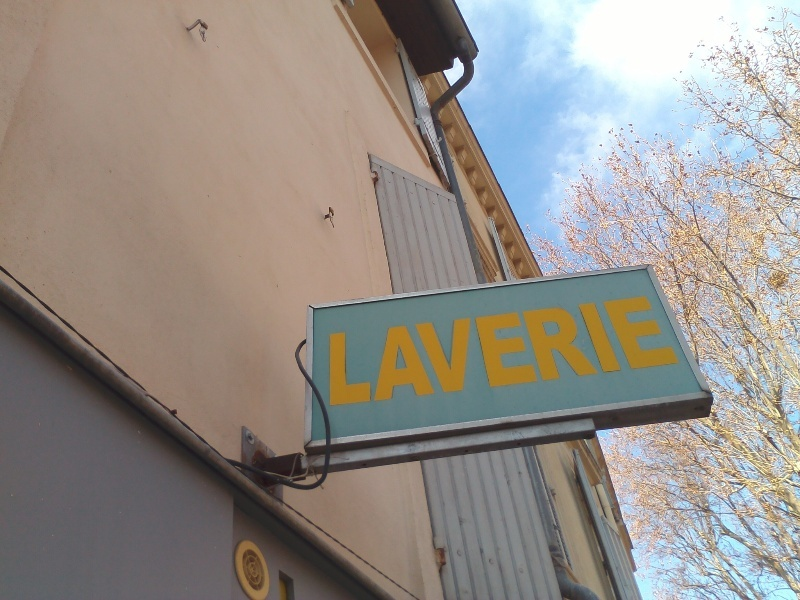text: (337, 293, 352, 409), (353, 293, 368, 409), (369, 293, 384, 409), (385, 293, 400, 409), (401, 293, 416, 409), (417, 293, 432, 409), (433, 293, 448, 409), (449, 293, 464, 409), (465, 293, 480, 409), (481, 293, 496, 409), (497, 293, 512, 409), (513, 293, 528, 409), (529, 293, 544, 409), (545, 293, 560, 409), (561, 293, 576, 409), (577, 293, 592, 409), (593, 293, 608, 409), (609, 293, 624, 409), (625, 293, 640, 409), (641, 293, 656, 409), (657, 293, 672, 409), (673, 293, 683, 409), (327, 293, 336, 409)
